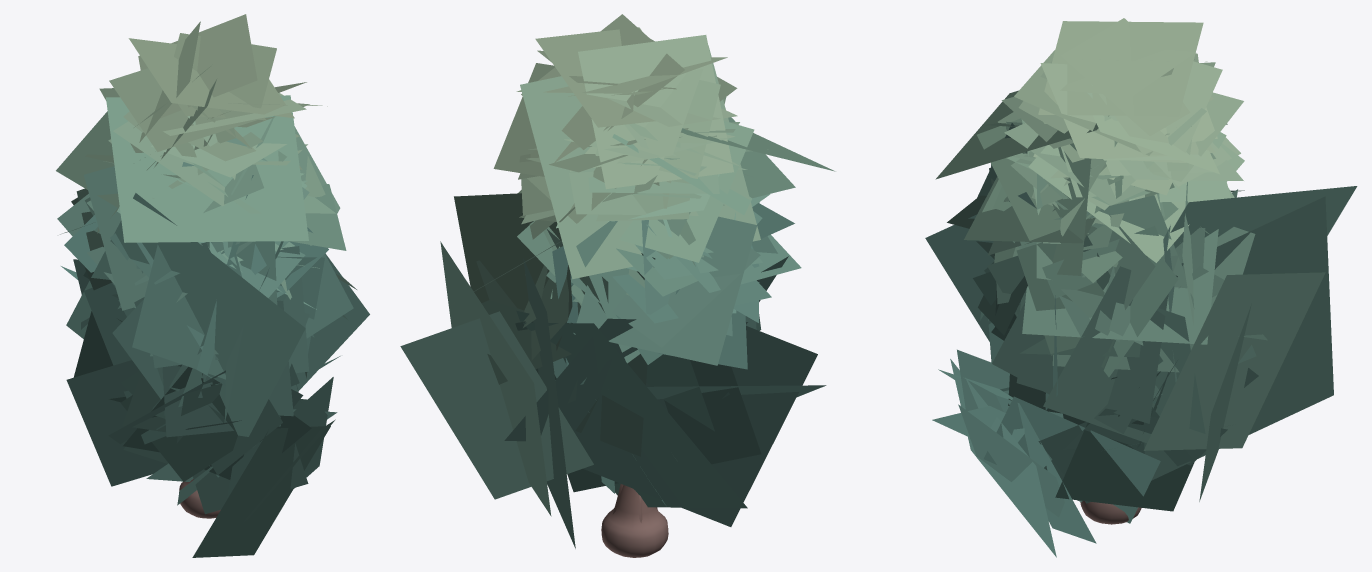
Rendered from yew_v4.glb.
3 views of the same model, side by side, from view 1: azimuth 30°, elevation 25°; view 2: azimuth 150°, elevation 25°; view 3: azimuth 270°, elevation 25° (orthographic). The views are drawn at different scales.
Parts seen in each view (by area): view 1: near, far; view 2: near, far; view 3: near, far.
Boxes of the visible parts, x1,y1,x2,y2 form: near: (56, 14, 353, 557); far: (57, 79, 369, 486); near: (454, 14, 795, 557); far: (400, 45, 835, 548); near: (932, 18, 1267, 557); far: (925, 90, 1357, 501).
Bounding box in the file's own units: 8.59 × 11.82 × 9.94.
